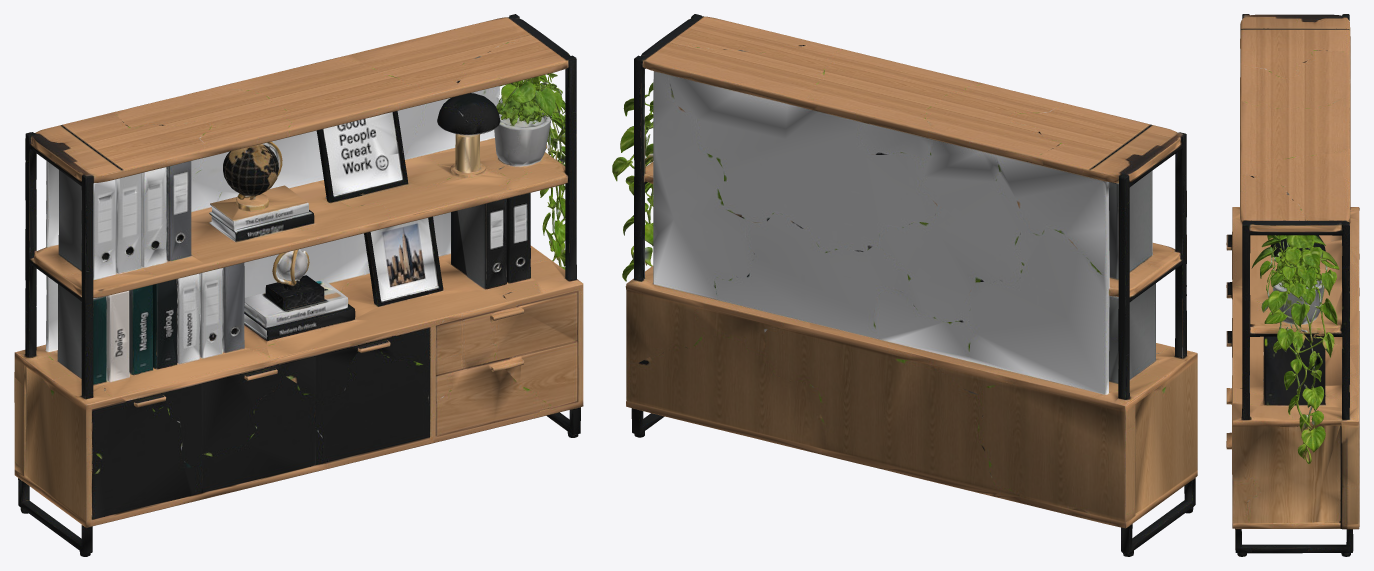
File: agency-storage-shelf.glb
The picture shows the model from 3 angles, left to right: view 1: azimuth 30°, elevation 25°; view 2: azimuth 150°, elevation 25°; view 3: azimuth 270°, elevation 25°; orthographic projection. The views are drawn at different scales.
Bounding box in the file's own units: 1.9 × 1.3 × 0.4705.
Materials: 1 (1 with a texture image).
